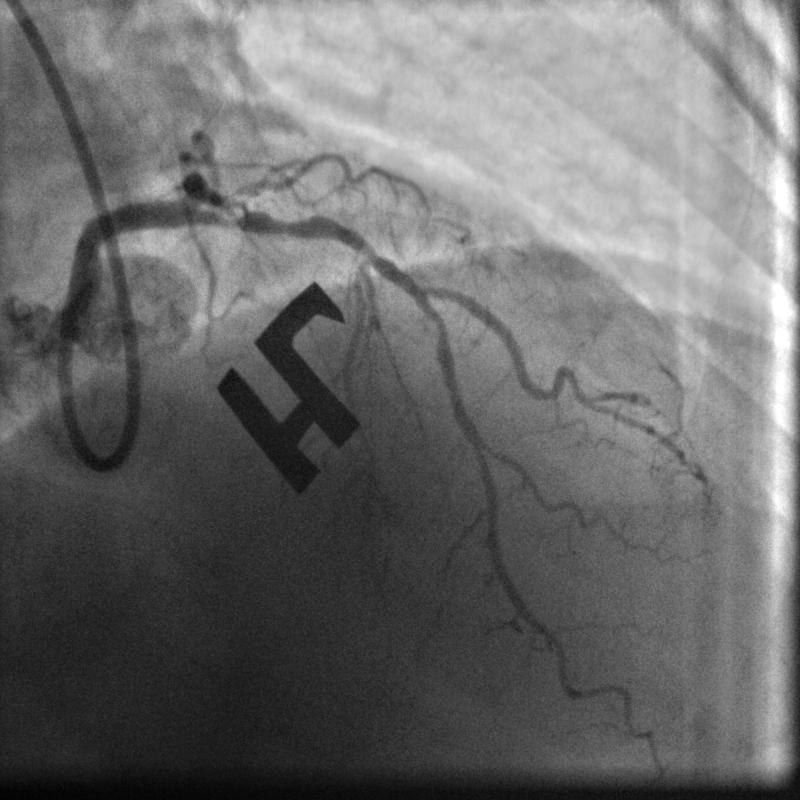Stenosis: (215, 200, 321, 235)
